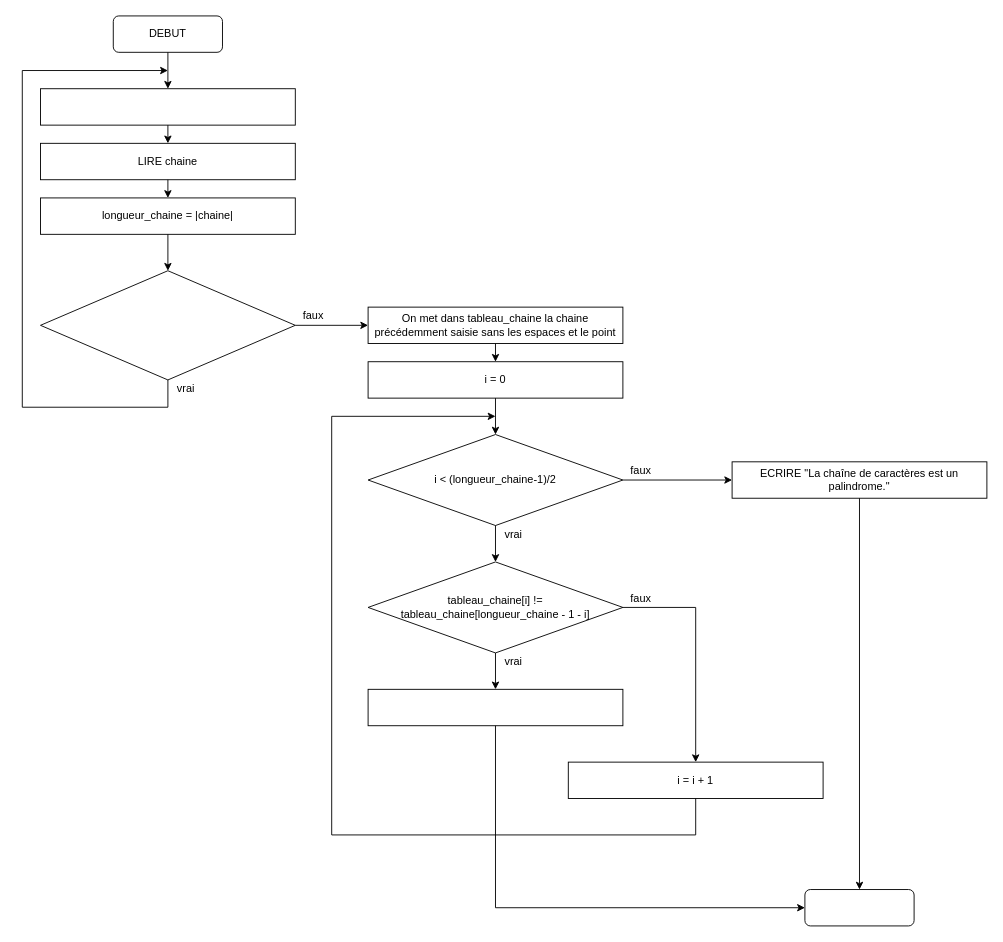
Some shapes in this 1003 by 942 pixel diagram are drawn without their labels. The box of each missing label's shape, as (x1, y1, x2, y2) in pixels:
(tableau[longueur_chaine - 1] != ".") ET (longueur_chaine <= 1): (40, 270, 295, 380)
ECRIRE "La chaîne de caractères n'est pas un palindrome.": (367, 688, 623, 726)
ECRIRE "Veuillez saisir votre phrase : ": (40, 88, 295, 125)
FIN: (804, 889, 914, 926)
